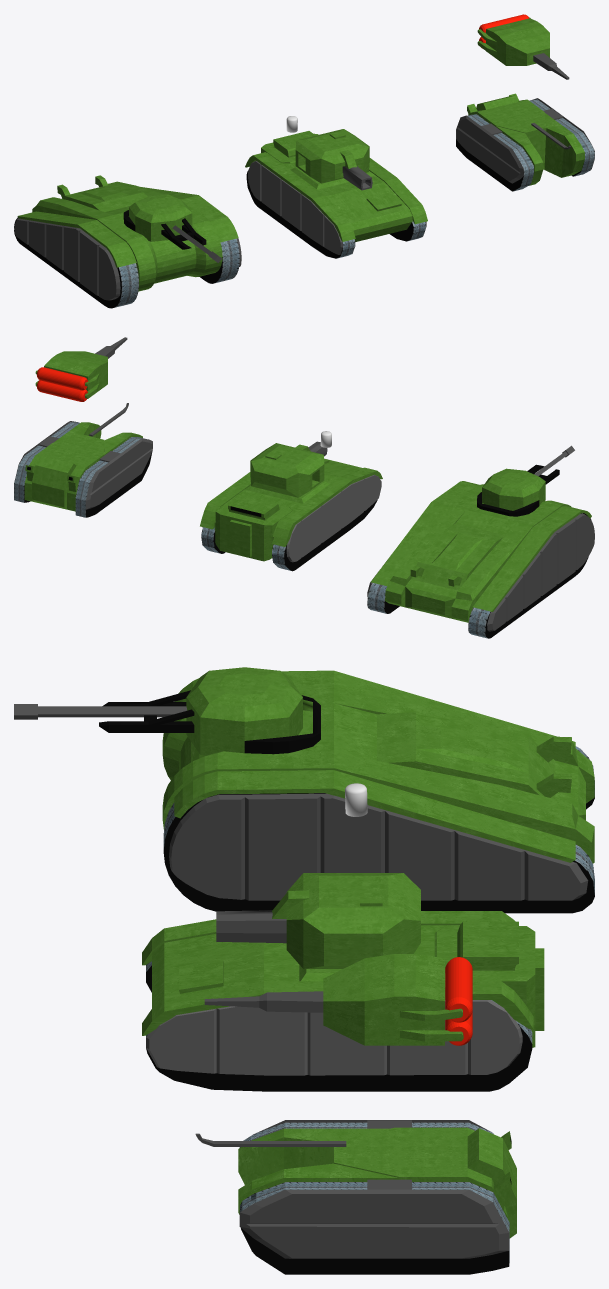
File: TanksModels.fbx
The picture shows the model from 3 angles, top to bottom: view 1: azimuth 30°, elevation 25°; view 2: azimuth 150°, elevation 25°; view 3: azimuth 270°, elevation 25°; orthographic projection. The views are drawn at different scales.
Visible parts, largest first — view 1: Cube.005, Cube, Cube.007, Cube.002, Cube.013, Cube.015, Cube.003, Cube.016, Cube.010, Cube.012, Cube.008, Cube.017 (+4 smaller); view 2: Cube.005, Cube, Cube.015, Cube.007, Cube.017, Cube.002, Cube.003, Cube.013, Cube.010, Cube.016, Cube.012, Cube.011 (+3 smaller); view 3: Cube.005, Cube.007, Cube.002, Cube.012, Cube, Cube.013, Cube.015, Cube.003, Cube.010, Cube.017, Cube.011, Cube.001 (+6 smaller).
Boxes of the visible parts, x1,y1,x2,y2 form: Cube.005: (32,175,222,291); Cube: (261,131,412,241); Cube.007: (14,218,241,300); Cube.002: (248,161,426,254); Cube.013: (477,14,569,79); Cube.015: (17,187,238,267); Cube.003: (295,129,369,183); Cube.016: (245,152,427,241); Cube.010: (123,194,206,249); Cube.012: (456,98,594,183); Cube.008: (495,113,584,185); Cube.017: (467,93,546,169); Cube.005: (385,484,571,622); Cube: (214,458,362,561); Cube.015: (371,481,591,611); Cube.007: (367,513,594,631); Cube.017: (24,434,104,511); Cube.002: (202,474,381,562); Cube.003: (250,443,324,497); Cube.013: (35,337,127,401); Cube.010: (477,464,559,516); Cube.016: (200,467,382,546); Cube.012: (18,421,152,509); Cube.011: (14,422,152,517); Cube.005: (162,687,594,863); Cube.007: (169,793,588,900); Cube.002: (146,1000,522,1075); Cube.012: (239,1120,509,1258); Cube: (152,921,544,1047); Cube.013: (204,954,472,1045); Cube.015: (174,670,575,862); Cube.003: (272,873,420,968); Cube.010: (99,667,320,755); Cube.017: (334,1127,516,1238); Cube.011: (239,1122,509,1274); Cube.001: (146,961,532,1091).
Bounding box in the file's own units: 1974 × 510 × 997.
